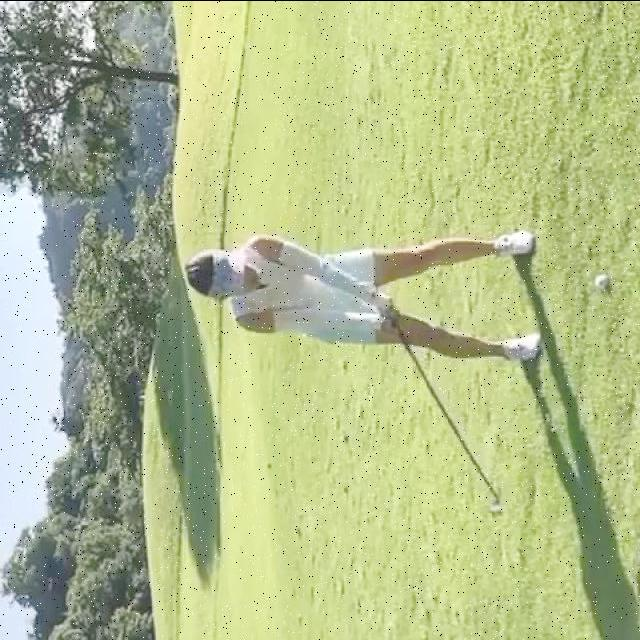golf ball: (596, 274, 609, 289)
golf club-handle: (392, 318, 504, 515)
golf club-head: (492, 501, 504, 515)
